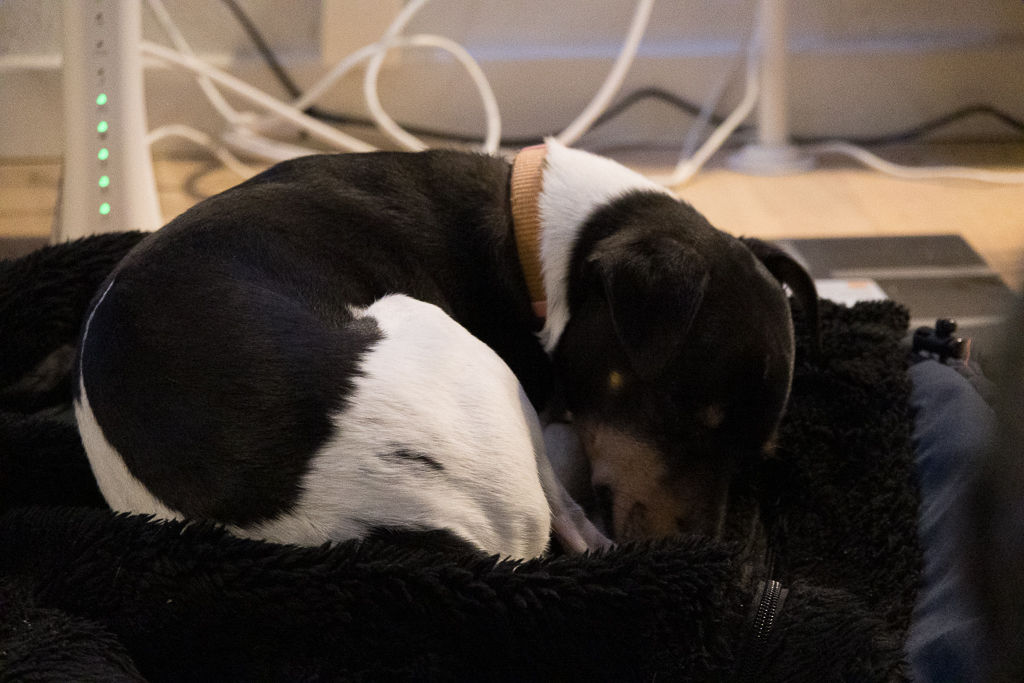Dog: (69, 132, 834, 607)
